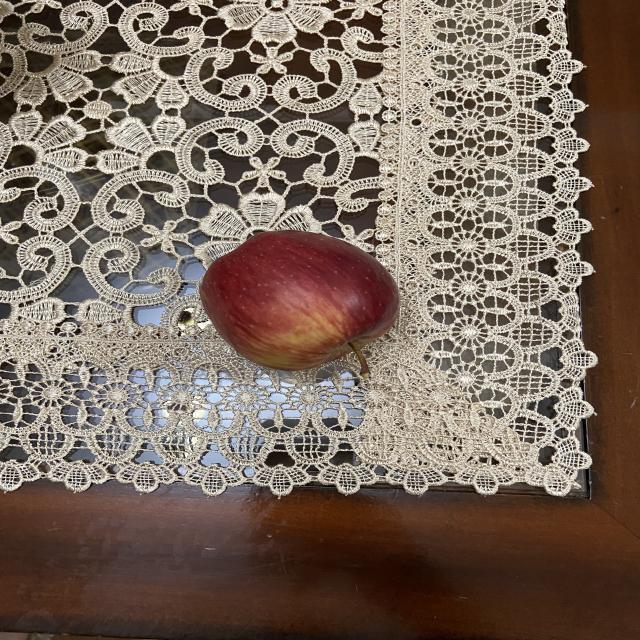apple: (200, 224, 406, 382)
